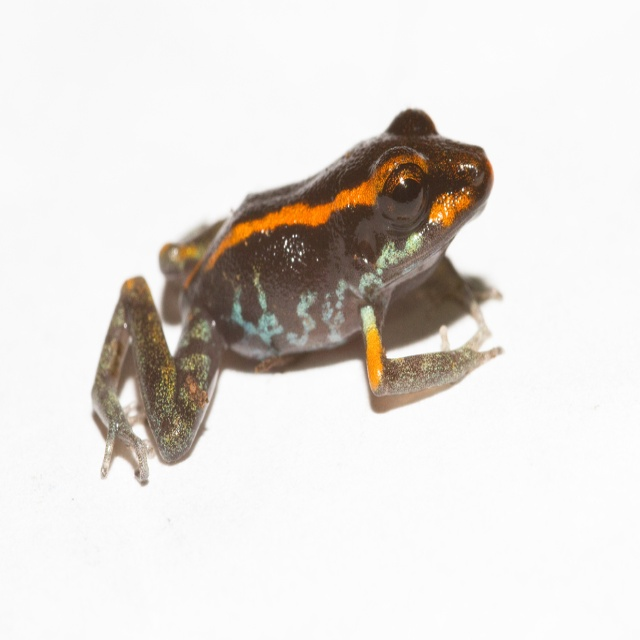Frog: (89, 104, 503, 485)
